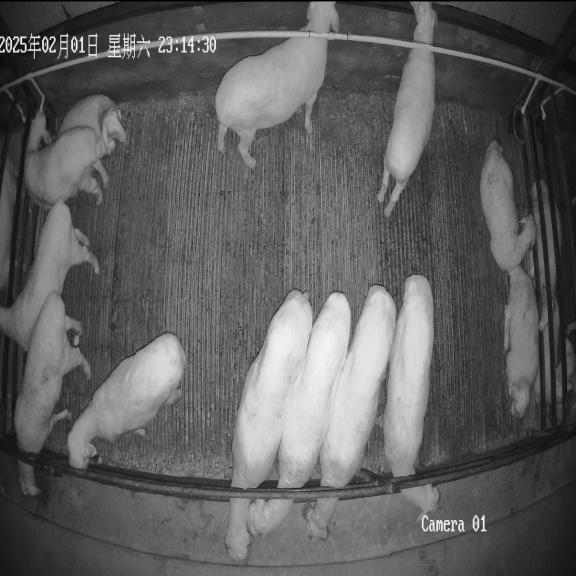drinking: (24, 111, 107, 206)
eating: (247, 292, 351, 536), (302, 285, 396, 541), (225, 290, 313, 563), (14, 293, 91, 496), (378, 274, 439, 521)
lying: (480, 141, 536, 273), (504, 265, 539, 417), (59, 94, 125, 155)
stand: (215, 1, 339, 169), (67, 333, 186, 468), (0, 200, 99, 350), (378, 2, 437, 216)
